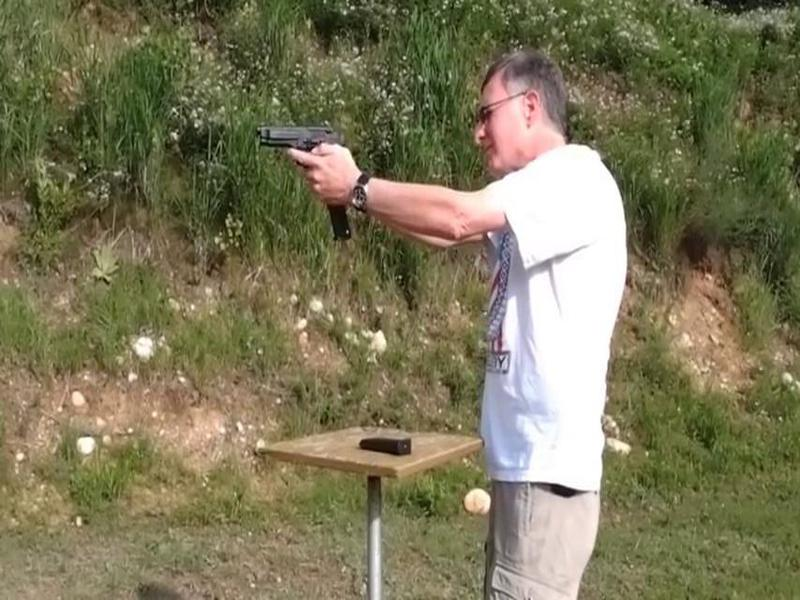Pistola: (251, 94, 341, 204)
